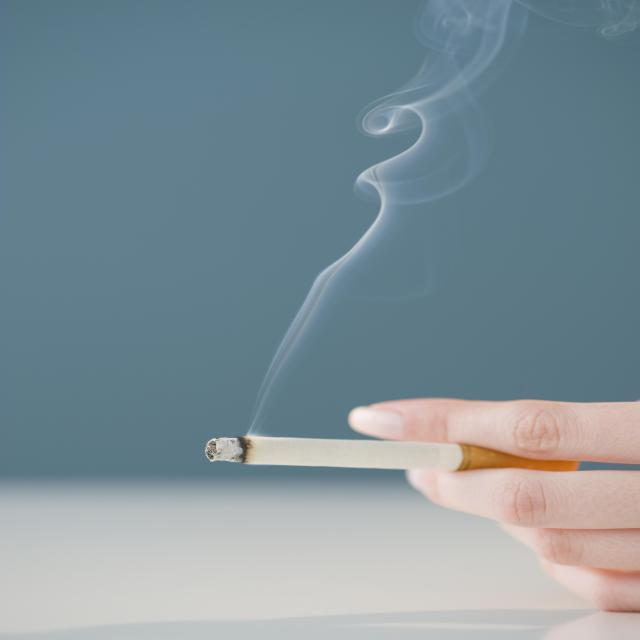rokok: (198, 424, 584, 474)
